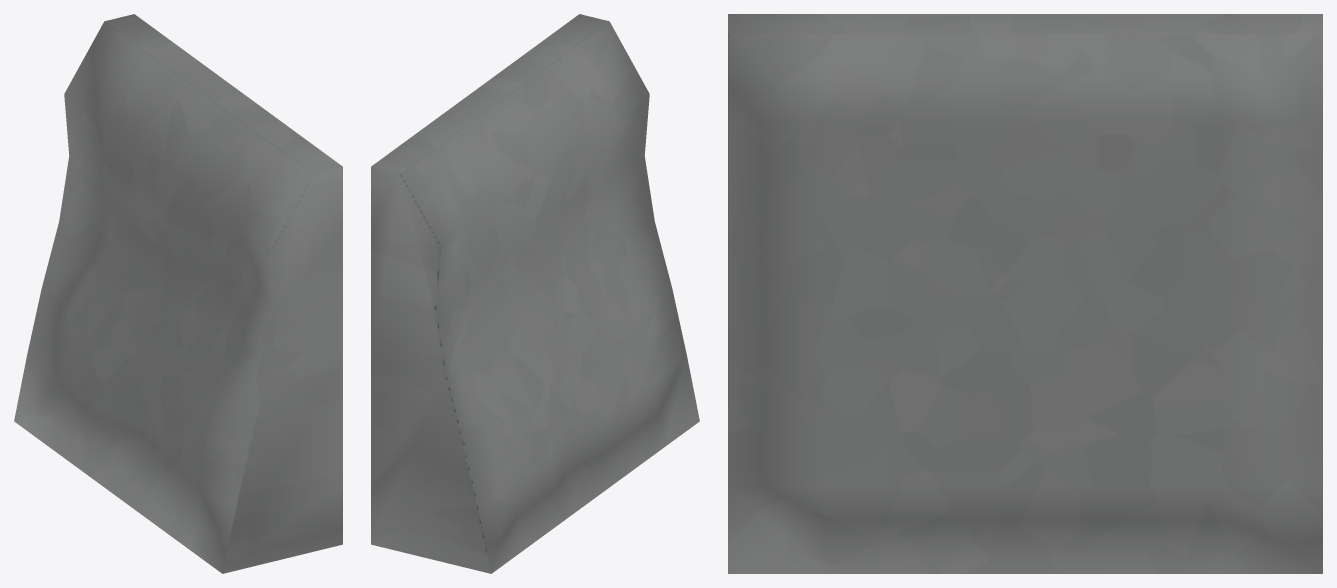
The model's file is wallShort.glb.
3 renders of one model, left to right at view 1: azimuth 30°, elevation 25°; view 2: azimuth 150°, elevation 25°; view 3: azimuth 270°, elevation 25°, orthographic. The views are drawn at different scales.
Parts seen in each view (by area): view 1: WallShort; view 2: WallShort; view 3: WallShort.
Boxes of the visible parts, <box> form: WallShort: <box>14,14,342,573</box>; WallShort: <box>371,14,699,573</box>; WallShort: <box>728,14,1322,573</box>.
Bounding box in the file's own units: 2 × 6 × 6.
1 material, 1 textured.
